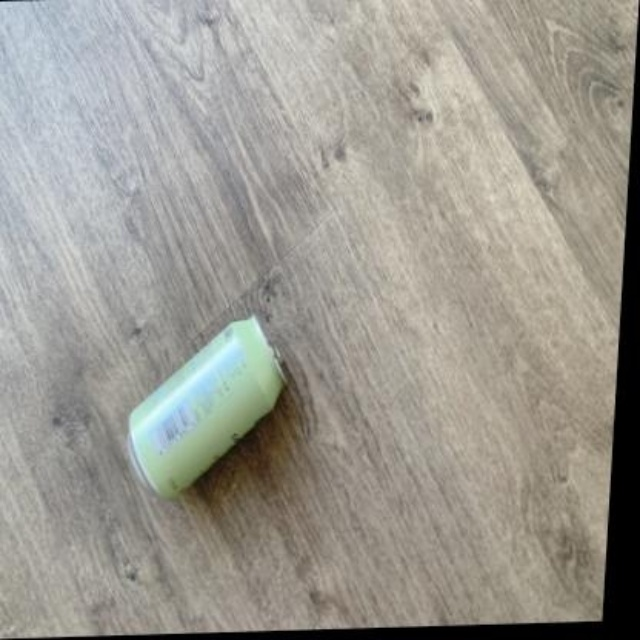trash: (129, 317, 283, 497)
